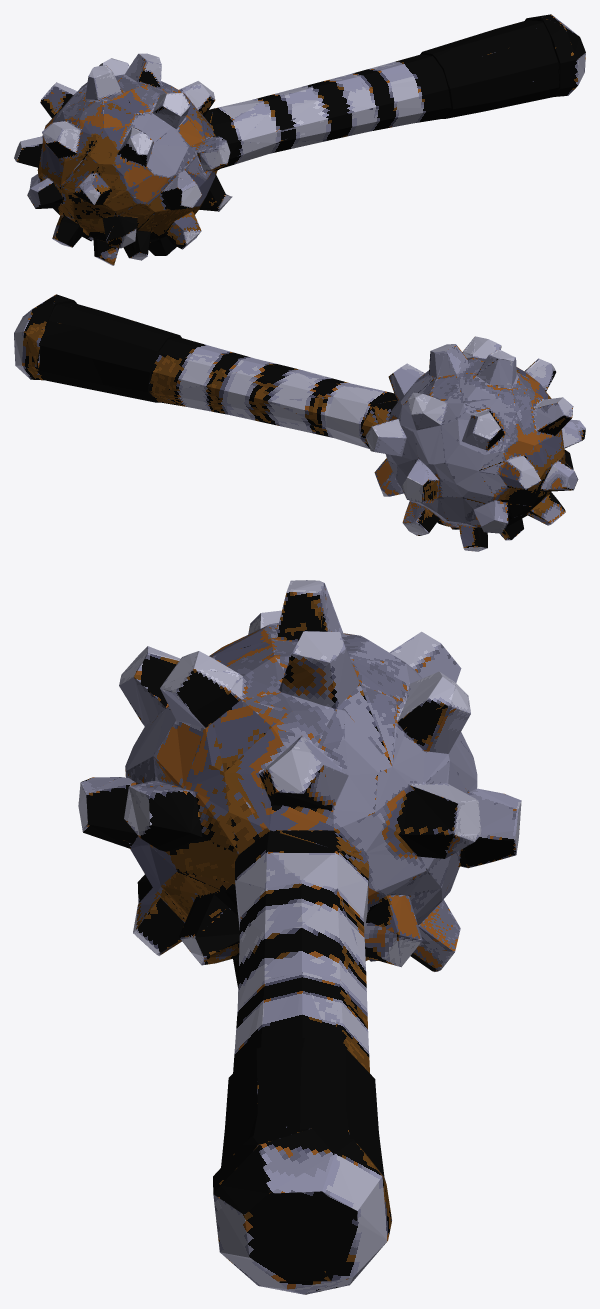
3 renders of one model, top to bottom at view 1: azimuth 30°, elevation 25°; view 2: azimuth 150°, elevation 25°; view 3: azimuth 270°, elevation 25°, orthographic. The views are drawn at different scales.
Visible parts, largest first — view 1: OBJ007; view 2: OBJ007; view 3: OBJ007.
Boxes of the visible parts, x1,y1,x2,y2 form: OBJ007: (14, 14, 585, 265); OBJ007: (14, 294, 585, 551); OBJ007: (78, 580, 521, 1294).
Bounding box in the file's own units: 0.3736 × 0.1265 × 0.133.
1 material, 1 textured.
